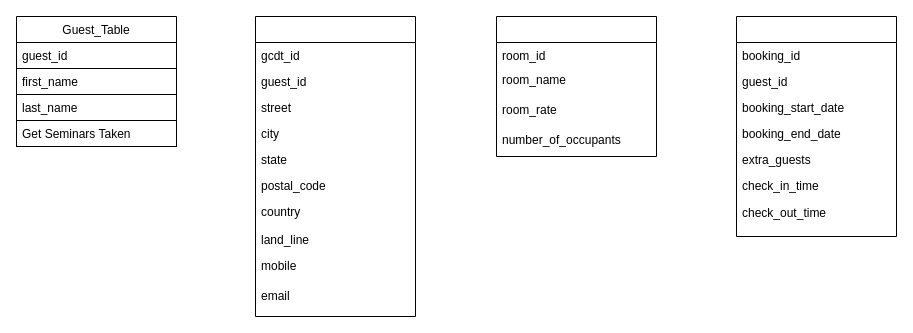
This 913x333 diagram has some shape labels left out. The box of each missing label's shape, as (x1, y1, x2, y2) in pixels:
Booking_Table: (736, 16, 896, 236)
Guest_Contact_Details_Table: (254, 16, 416, 316)
Room_Table: (496, 16, 656, 156)
